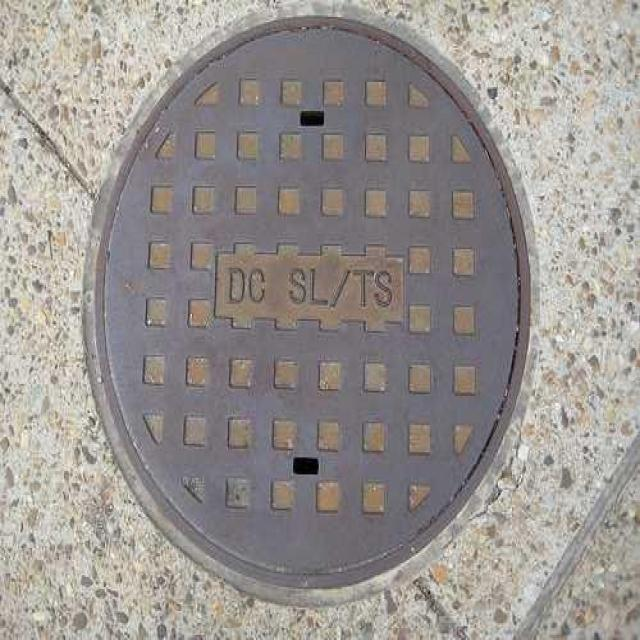manhole: (85, 20, 530, 604)
